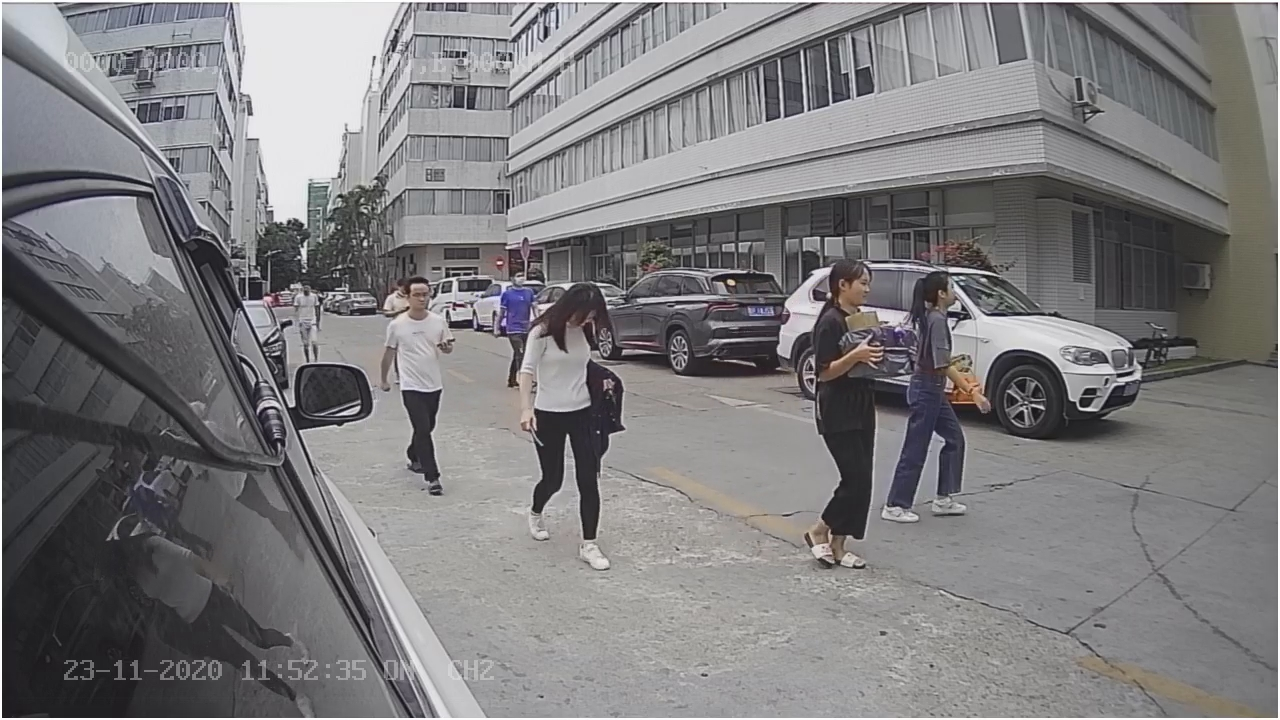person: (516, 283, 618, 567), (384, 280, 451, 487)
